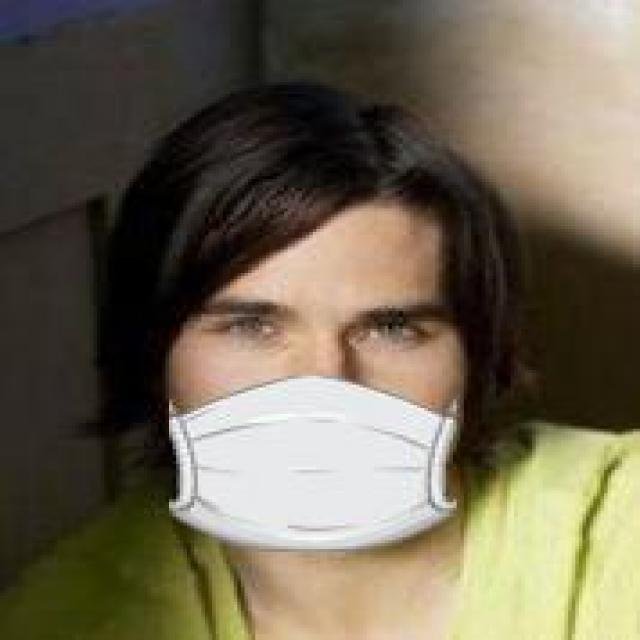mask: (118, 85, 564, 576)
